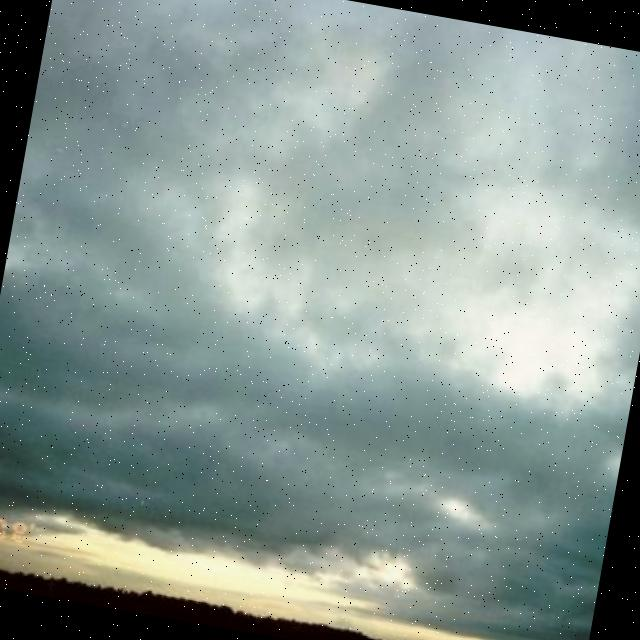St: (1, 1, 640, 551)
